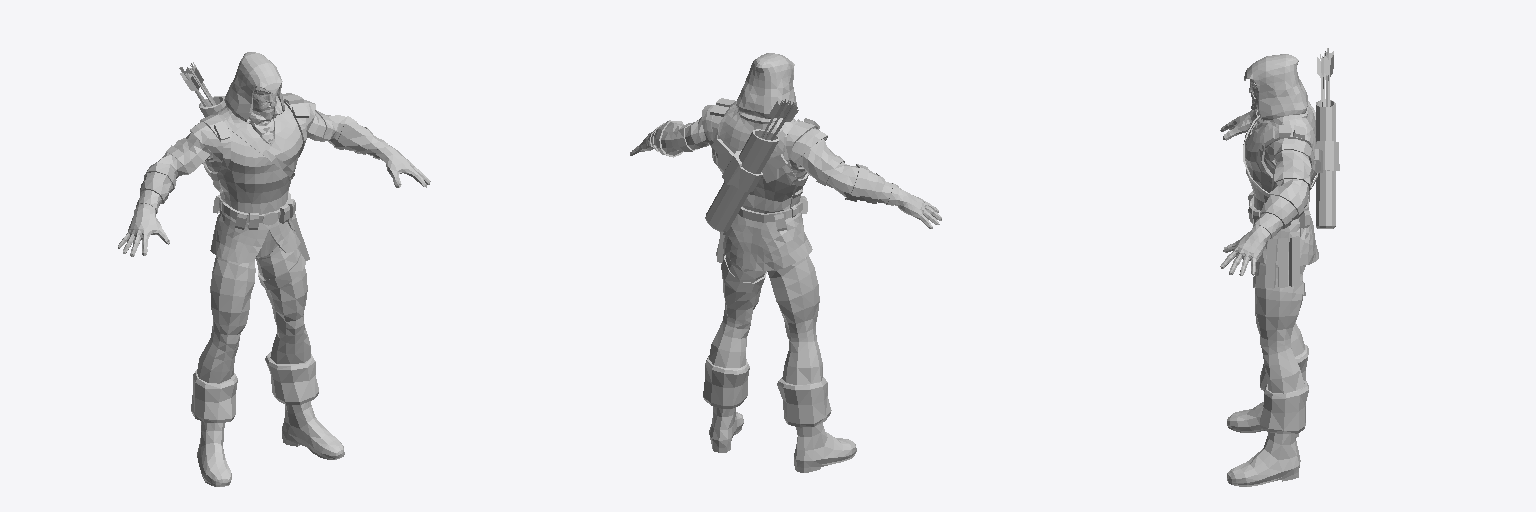
Rendered from green arrow hero130.obj.
3 renders of one model, left to right at view 1: azimuth 30°, elevation 25°; view 2: azimuth 150°, elevation 25°; view 3: azimuth 270°, elevation 25°, orthographic.
Visible parts, largest first — view 1: VisualSceneNode63_Geometry; view 2: VisualSceneNode63_Geometry; view 3: VisualSceneNode63_Geometry.
Part boxes in pixels (left/top/right/bottom): VisualSceneNode63_Geometry: left=118, top=52, right=430, bottom=486; VisualSceneNode63_Geometry: left=630, top=53, right=941, bottom=472; VisualSceneNode63_Geometry: left=1220, top=48, right=1339, bottom=486.
Size of the model in its own units: 3.27 by 4.1 by 1.11.